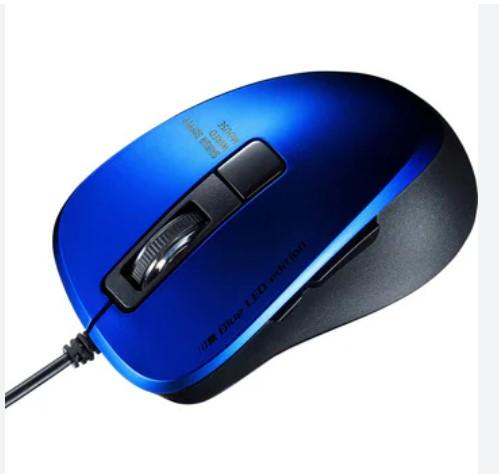computer mouse: (51, 71, 474, 406)
